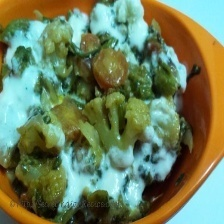sabzi: (0, 0, 198, 221)
